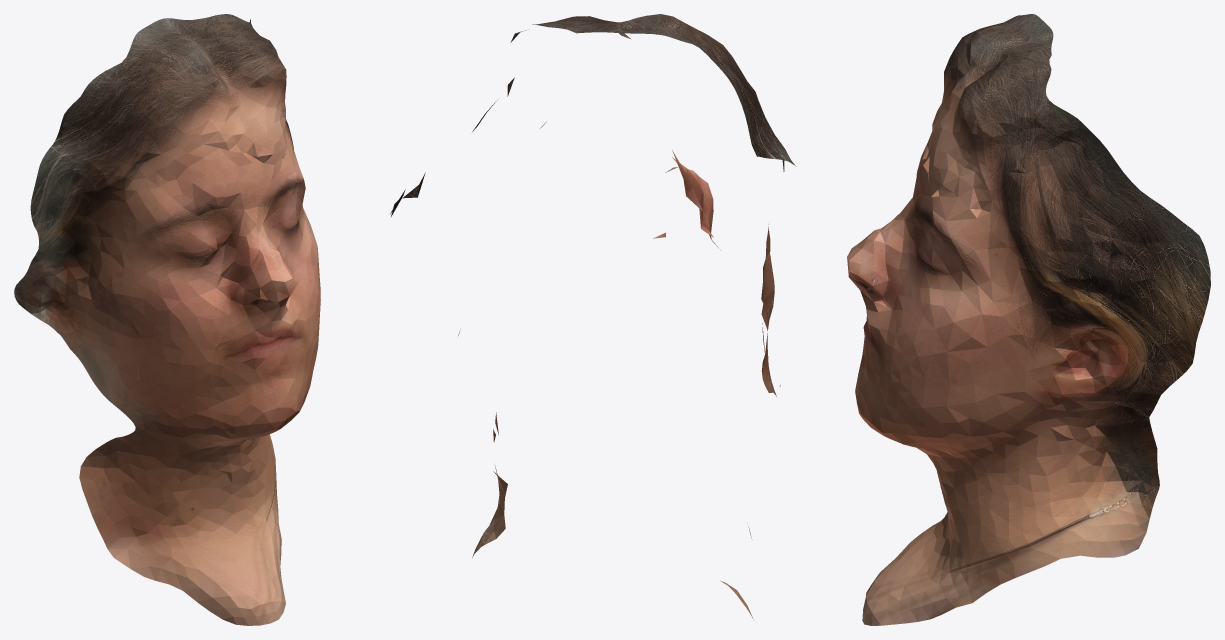
Rendered from BUSTO_100.glb.
The picture shows the model from 3 angles, left to right: view 1: azimuth 30°, elevation 25°; view 2: azimuth 150°, elevation 25°; view 3: azimuth 270°, elevation 25°; orthographic projection. The views are drawn at different scales.
Visible parts, largest first — view 1: Mesh_0.003; view 2: Mesh_0.003; view 3: Mesh_0.003.
Boxes of the visible parts, x1=… form: Mesh_0.003: x1=14, y1=14, x2=320, y2=625; Mesh_0.003: x1=390, y1=14, x2=796, y2=618; Mesh_0.003: x1=847, y1=14, x2=1210, y2=625.
Size of the model in its own units: 2.47 by 4.32 by 2.45.
1 material, 1 textured.
